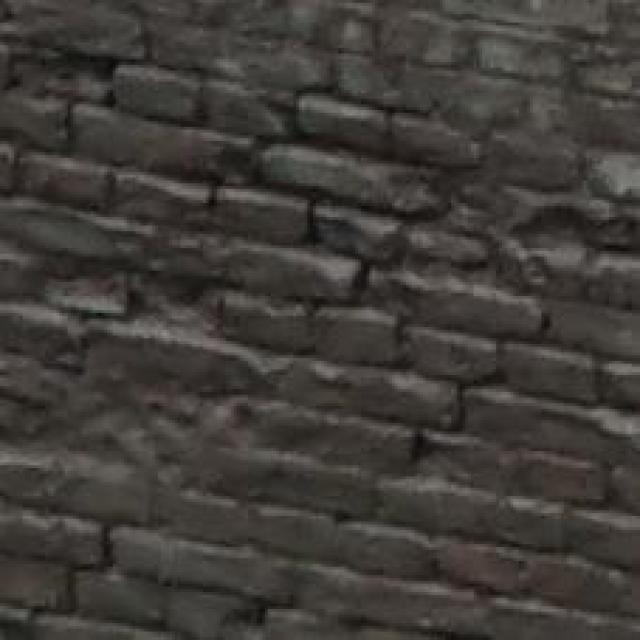Crack: (188, 37, 640, 546)
